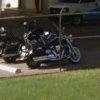Motorcycle: (20, 28, 87, 71)
